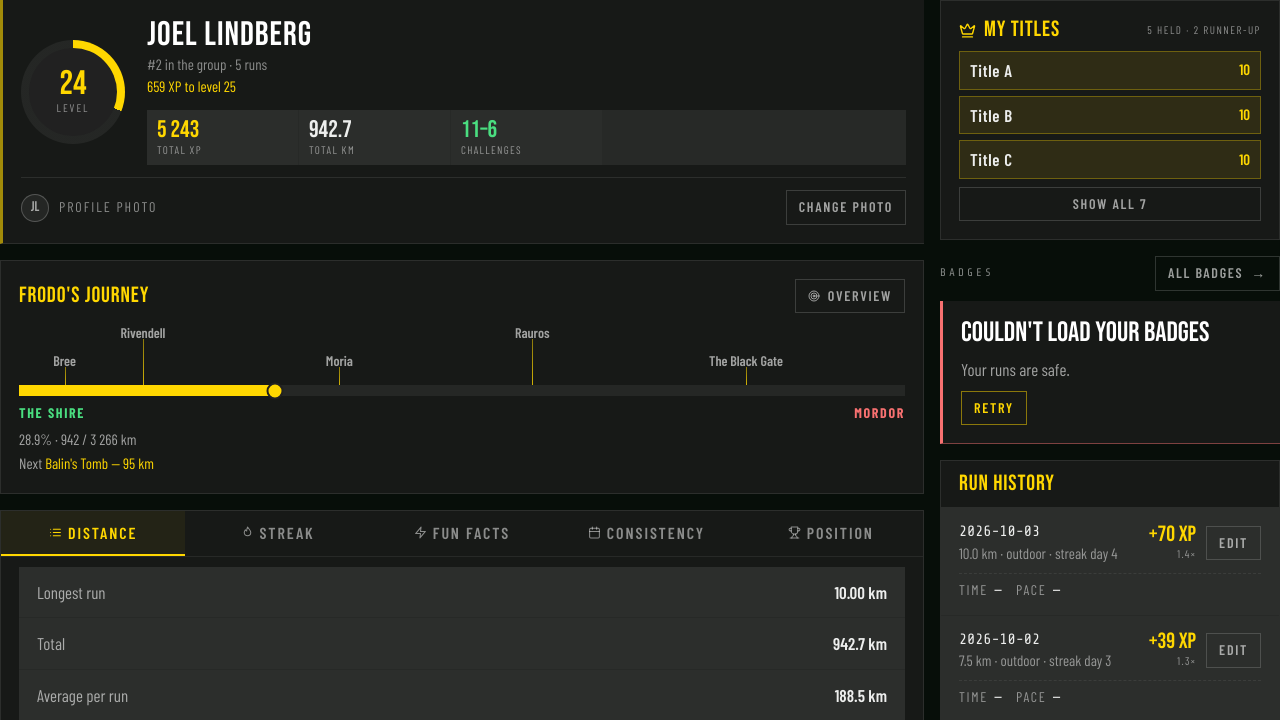
Profile — hjältekort › inga guldknappar på sidan — den enda guldknappen finns i redigeringsrutan
Check: the heading "Joel Lindberg" is shown, box [147, 14, 312, 55]
Click the button with aria-label "Edit run 2026-10-03".
click(1234, 543)  # box [1206, 526, 1261, 560]
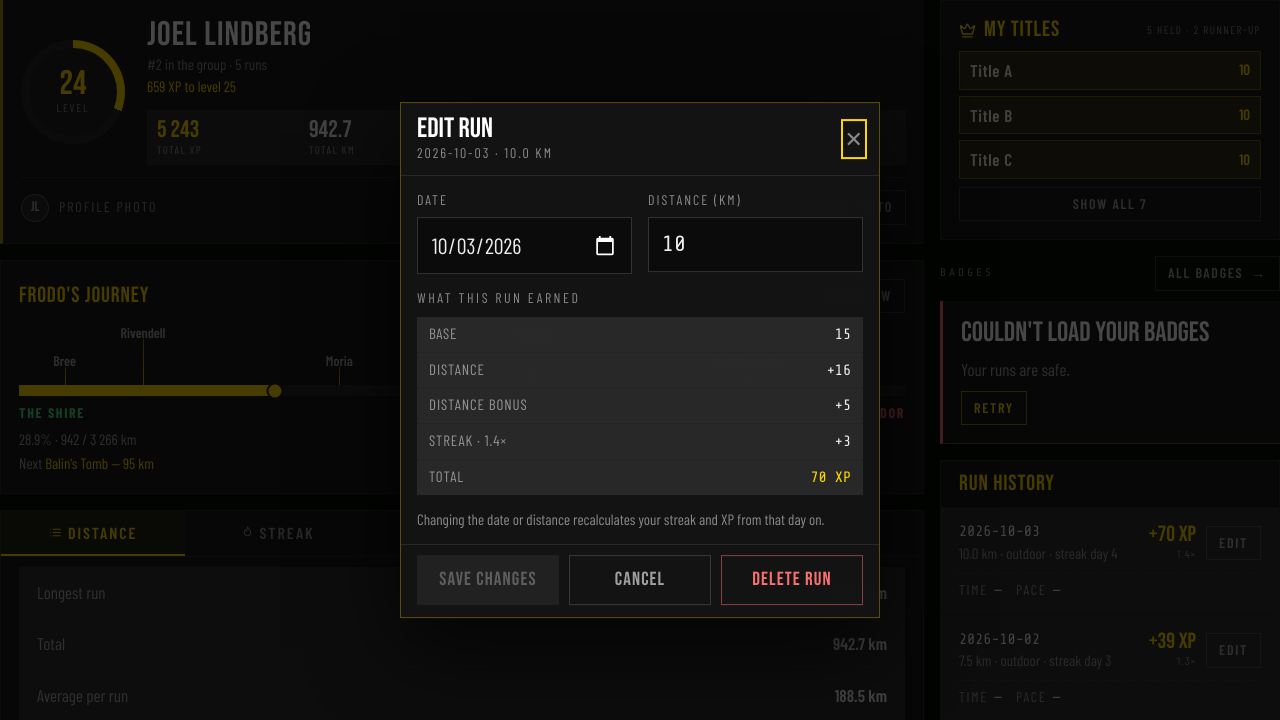
Check: the dialog is shown, box [400, 102, 880, 618]
